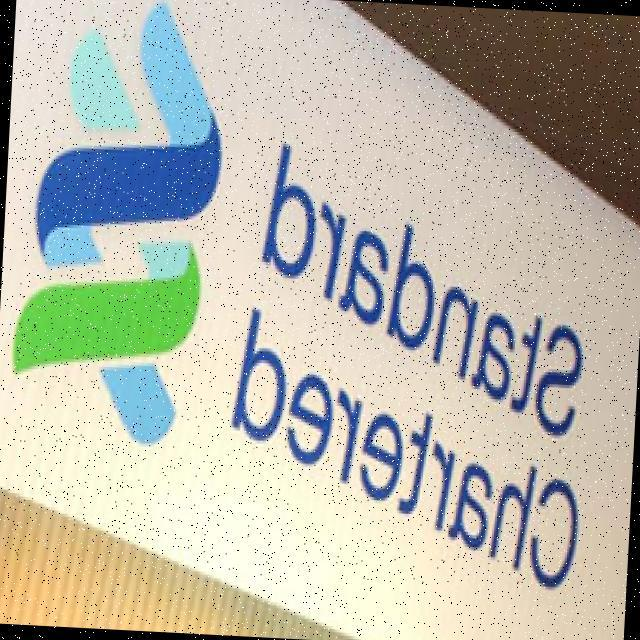Standard Chartered: (2, 0, 608, 591)
